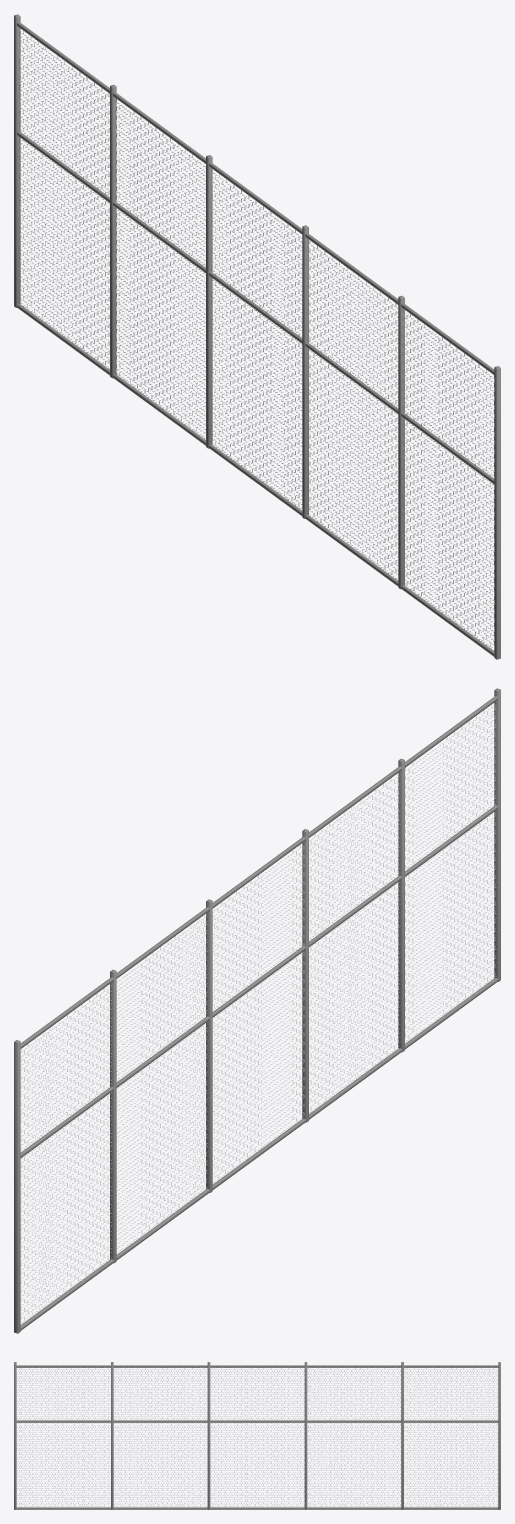
The model's file is FenceMetal01_2.FBX.
The picture shows the model from 3 angles, top to bottom: view 1: azimuth 30°, elevation 25°; view 2: azimuth 150°, elevation 25°; view 3: azimuth 270°, elevation 25°; orthographic projection. The views are drawn at different scales.
Visible parts, largest first — view 1: fence, FenceMetal01; view 2: fence, FenceMetal01; view 3: fence, FenceMetal01.
Boxes of the visible parts, bbox=[...] form: fence: bbox=[18, 30, 494, 651]; FenceMetal01: bbox=[14, 14, 500, 659]; fence: bbox=[20, 704, 496, 1325]; FenceMetal01: bbox=[14, 688, 500, 1333]; fence: bbox=[16, 1367, 497, 1507]; FenceMetal01: bbox=[14, 1362, 500, 1509].
Bounding box in the file's own units: 1.33 × 81.94 × 246.
